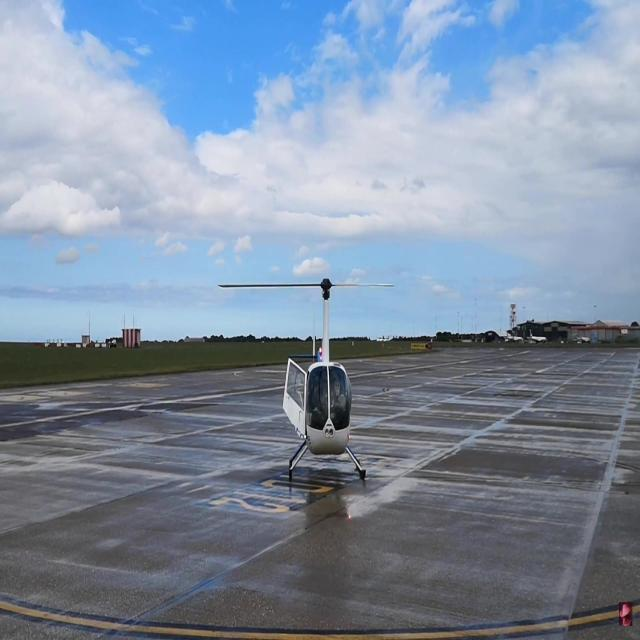CIV_HELO: (282, 277, 367, 483)
